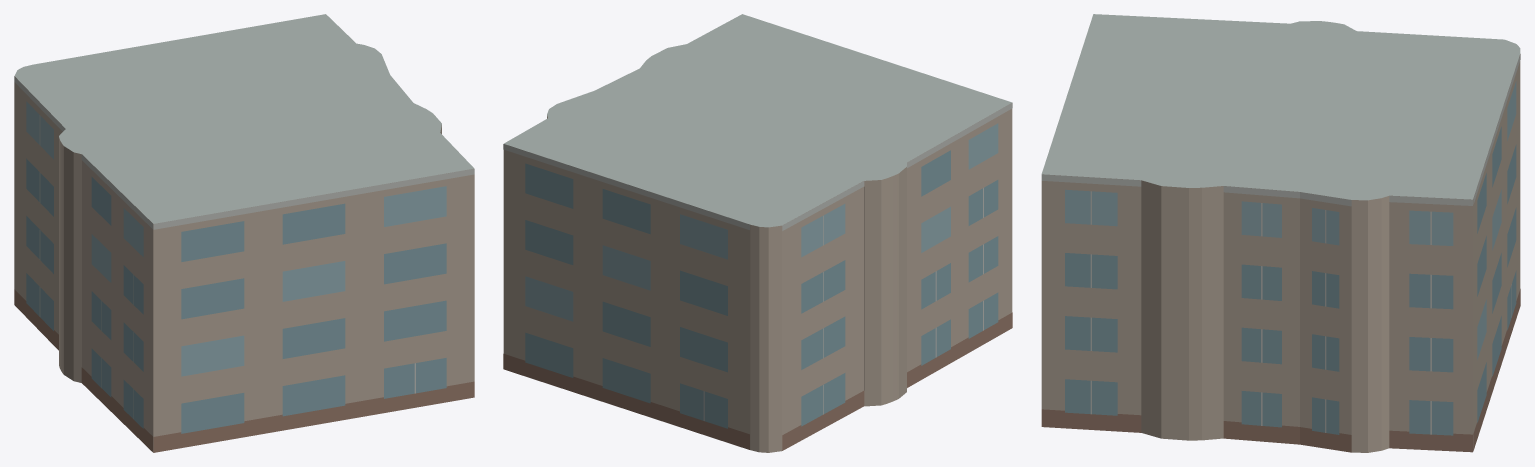
File: survey-upis-32683822.glb
3 renders of one model, left to right at view 1: azimuth 30°, elevation 25°; view 2: azimuth 150°, elevation 25°; view 3: azimuth 270°, elevation 25°, orthographic. The views are drawn at different scales.
Visible parts, largest first — view 1: survey-upis-32683822.tmp; view 2: survey-upis-32683822.tmp; view 3: survey-upis-32683822.tmp.
Boxes of the visible parts, x1=… form: survey-upis-32683822.tmp: x1=14, y1=14, x2=474, y2=452; survey-upis-32683822.tmp: x1=503, y1=14, x2=1012, y2=452; survey-upis-32683822.tmp: x1=1041, y1=14, x2=1520, y2=452.
Bounding box in the file's own units: 15.03 × 9.5 × 16.33.
